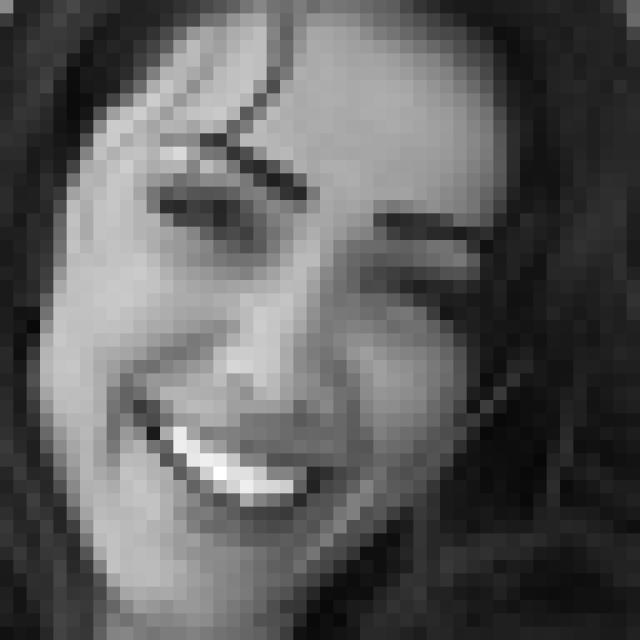happy: (99, 128, 495, 553)
